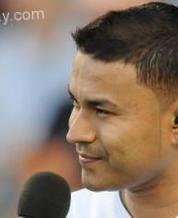face: (65, 86, 125, 171)
